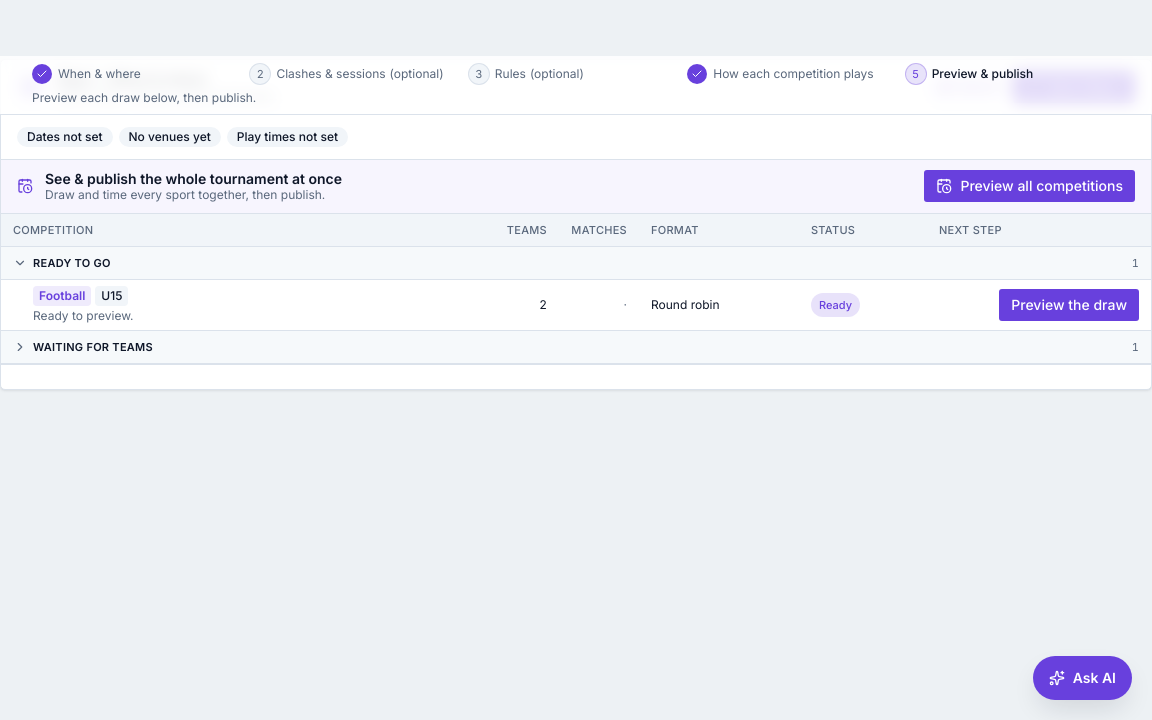
Scenario: FixtureSetupHub › deep-links a venues fix into the inline Step 1 panel
The width and height of the screenshot is (1152, 720).
Click the button with test id "section-needs_teams": (93, 347) top-left (1, 331), bottom-right (1151, 363)
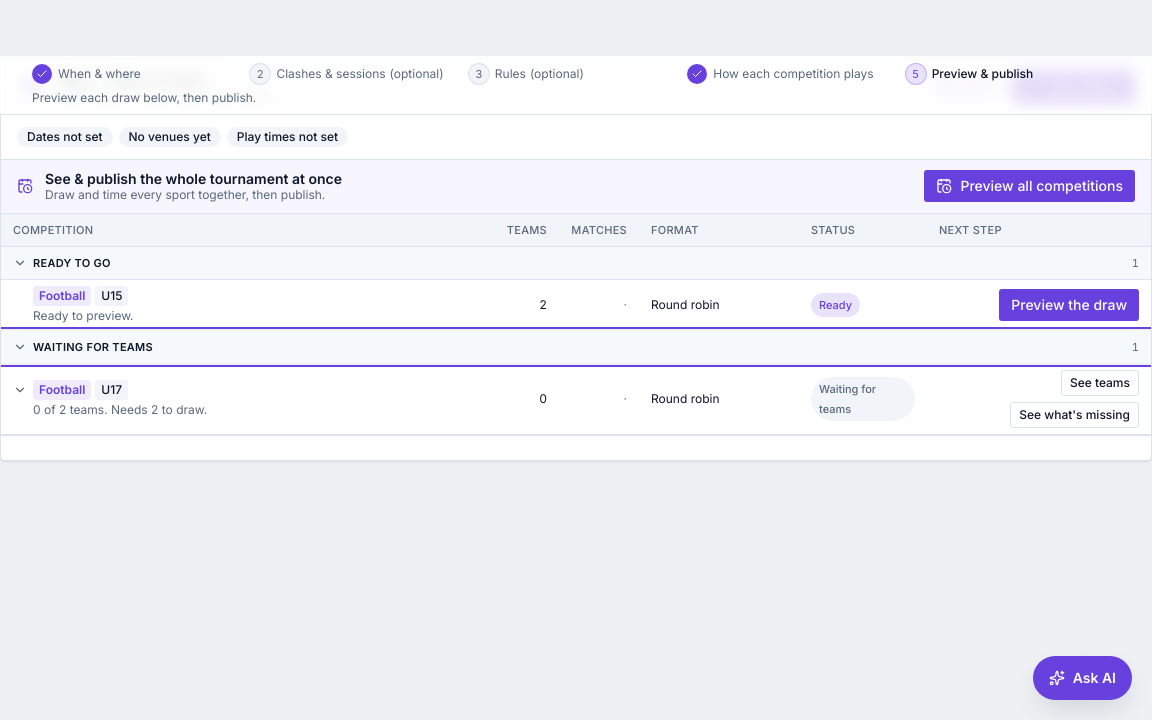
Click the button with test id "whats-missing-football.u17": (1075, 415) top-left (1010, 402), bottom-right (1139, 428)
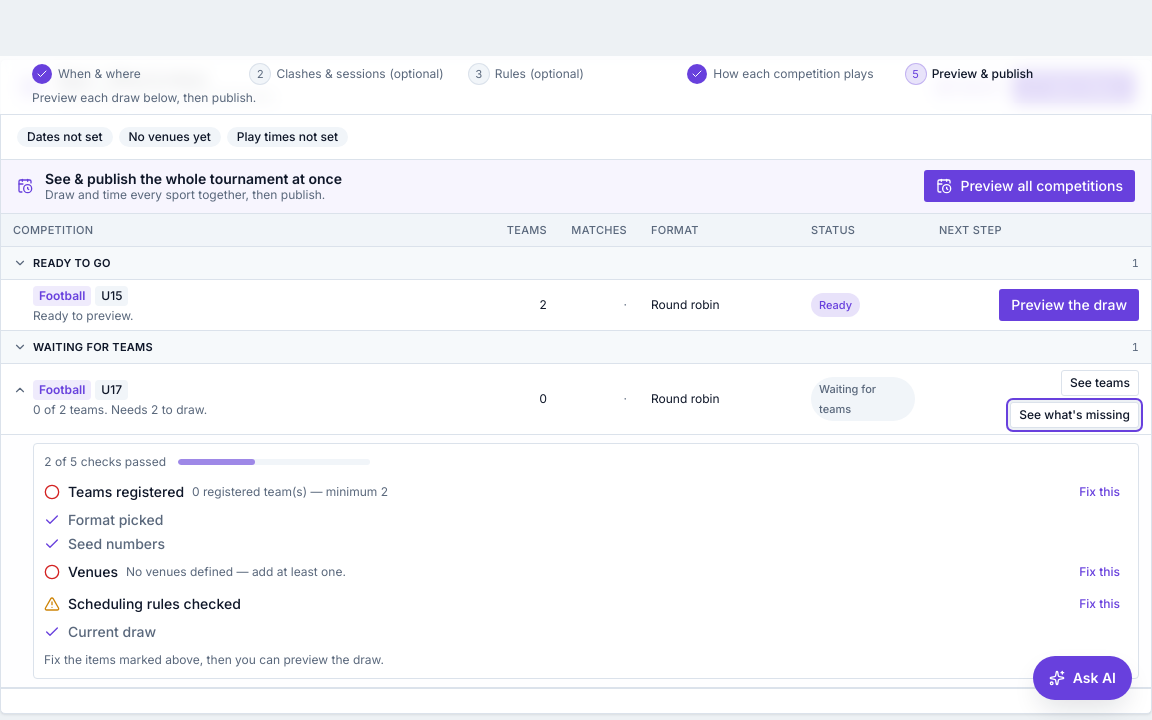
# U17 has two fixable fails (teams, venues) + a warn (constraints)
Click the button "Fix this" in the row of "No venues defined — add at least one.": (1100, 572) top-left (1071, 558), bottom-right (1128, 586)
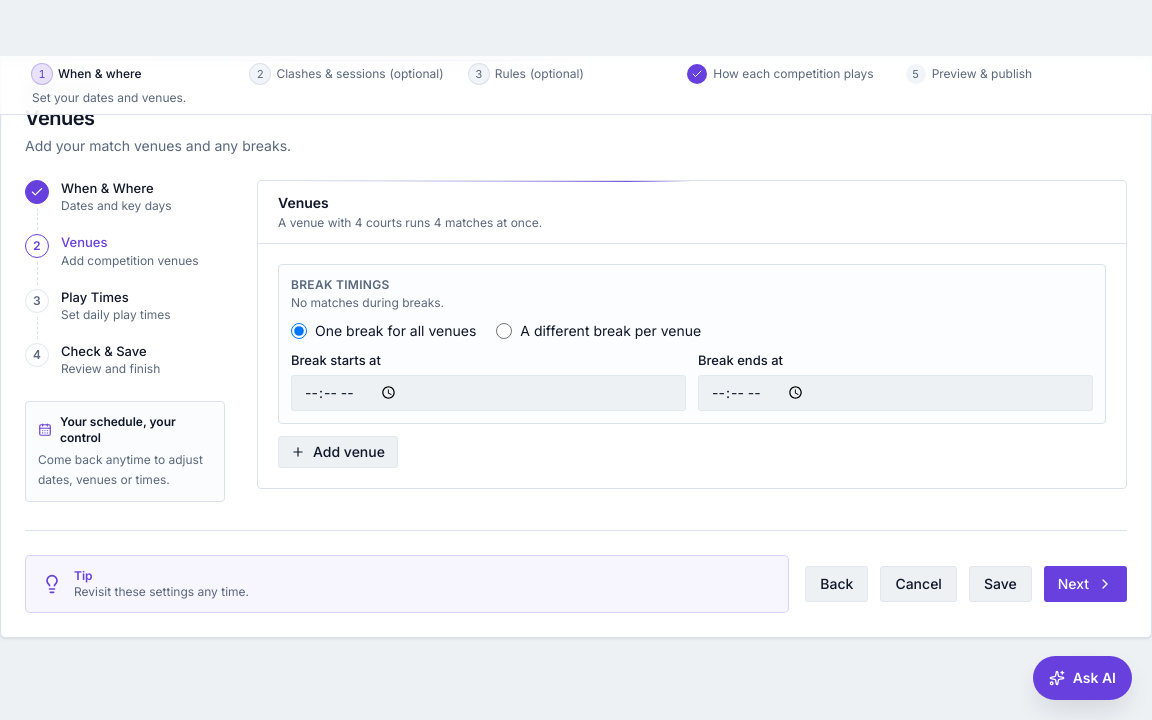
expect the element with test id "global-setup-inline" is shown: met
expect the element with test id "global-setup-strip" is gone: met
expect the button with test id "add-venue" is shown: met, box top-left (278, 436), bottom-right (398, 468)
